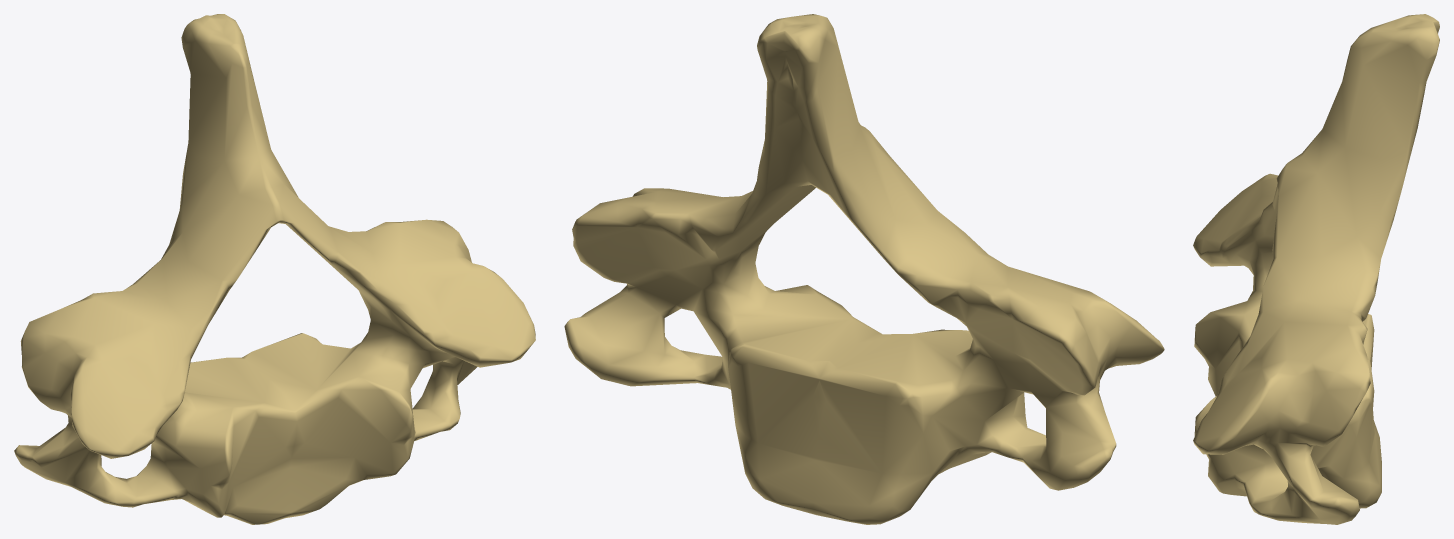
3 views of the same model, side by side, from view 1: azimuth 30°, elevation 25°; view 2: azimuth 150°, elevation 25°; view 3: azimuth 270°, elevation 25° (orthographic). The views are drawn at different scales.
Parts seen in each view (by area): view 1: 第四颈椎; view 2: 第四颈椎; view 3: 第四颈椎.
Boxes of the visible parts, x1,y1,x2,y2 form: 第四颈椎: (14, 14, 535, 524); 第四颈椎: (564, 14, 1164, 524); 第四颈椎: (1193, 14, 1439, 524).
Size of the model in its own units: 0.0854 by 0.0771 by 0.0369.
